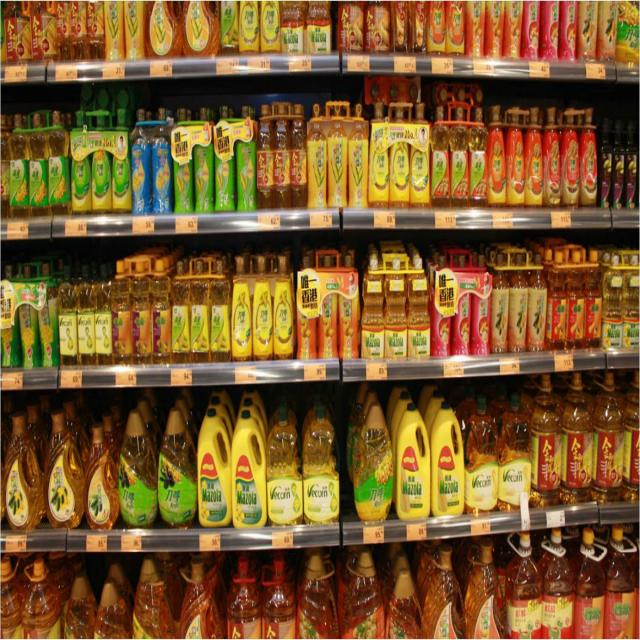oil: (534, 374, 637, 501), (362, 243, 431, 364), (277, 410, 343, 530), (267, 409, 333, 526), (6, 109, 74, 220), (297, 249, 362, 364), (68, 101, 132, 215), (113, 251, 176, 366), (230, 252, 296, 361), (529, 108, 602, 206), (541, 244, 605, 355), (307, 100, 370, 212), (431, 248, 494, 360), (165, 260, 233, 363), (485, 244, 548, 354), (459, 393, 515, 514), (431, 92, 488, 208), (367, 111, 432, 209), (54, 262, 115, 366), (2, 263, 58, 376), (532, 382, 584, 501), (485, 105, 546, 205), (351, 387, 395, 524), (485, 398, 536, 516), (257, 100, 309, 212), (389, 391, 432, 525), (154, 404, 199, 531), (45, 404, 90, 530), (170, 106, 221, 217), (118, 402, 162, 529), (4, 406, 46, 534), (429, 395, 471, 521), (231, 402, 271, 532), (210, 105, 258, 212), (198, 397, 236, 531), (80, 417, 122, 532), (132, 104, 173, 215)
